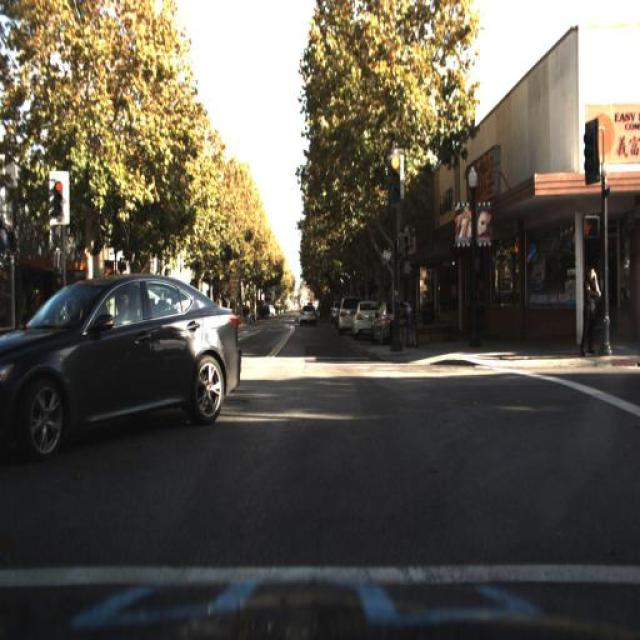car: (0, 277, 244, 463), (371, 297, 413, 344), (351, 296, 380, 346), (334, 288, 360, 339), (353, 304, 377, 334), (298, 301, 318, 334), (300, 296, 316, 324), (339, 293, 350, 329)
trafficLight: (580, 265, 604, 364), (579, 260, 601, 360), (387, 296, 404, 360)
trafficLight-RedLeft: (386, 150, 402, 205), (50, 171, 66, 223)
